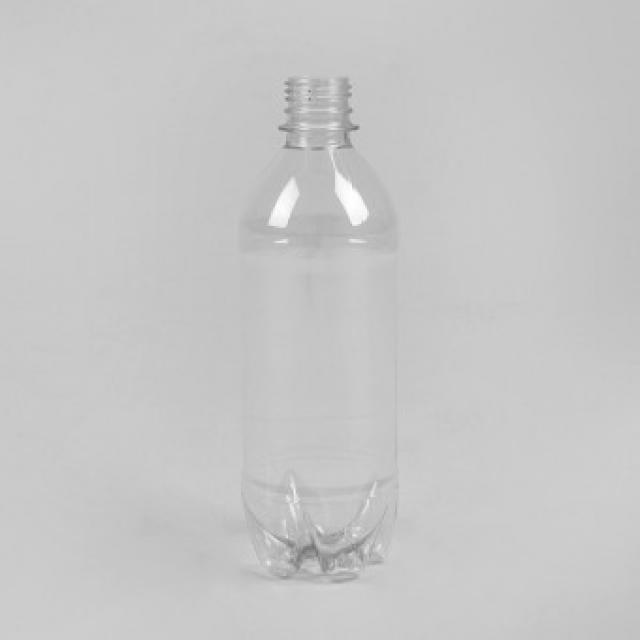plastic bottle: (241, 75, 405, 582)
